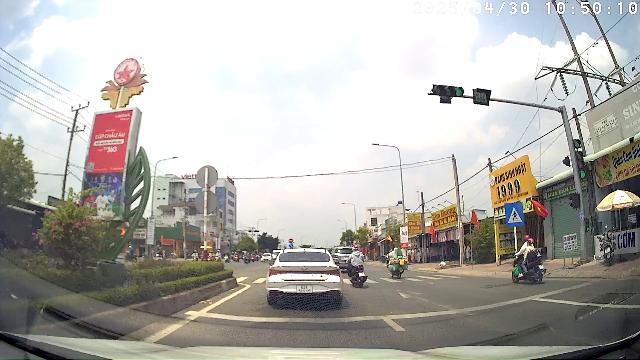423a-duong-nguoi-di-bo-sang-ngang-1: (506, 203, 524, 225)
